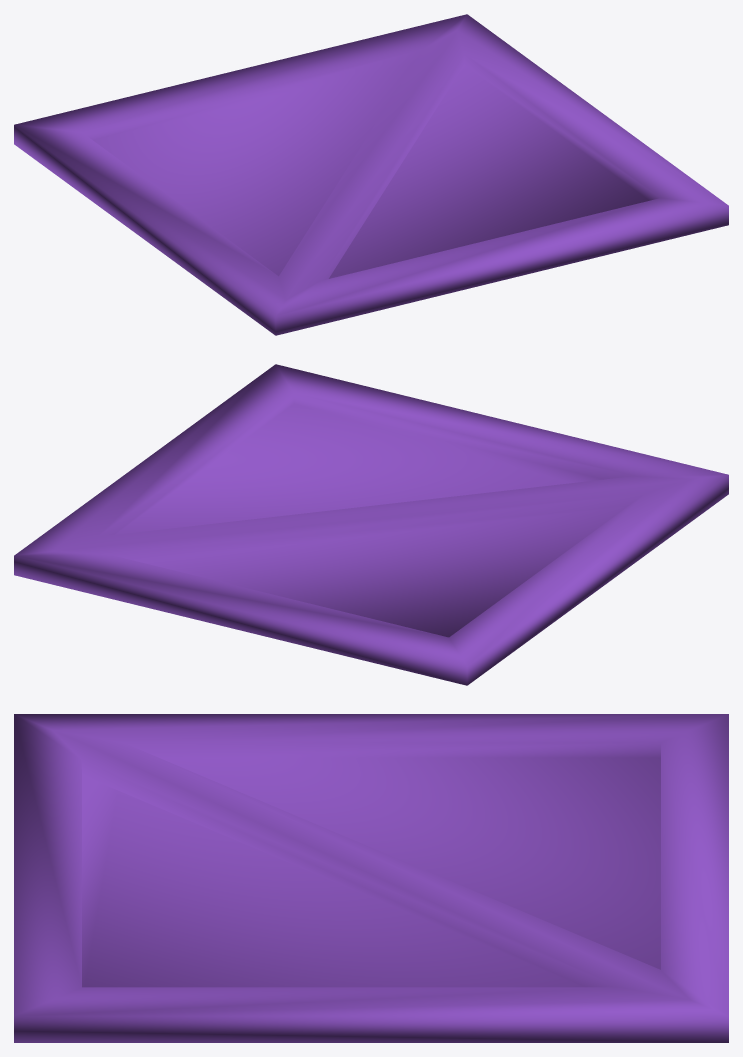
Rendered from OpenCrateLid.fbx.
3 views of the same model, one above another, from view 1: azimuth 30°, elevation 25°; view 2: azimuth 150°, elevation 25°; view 3: azimuth 270°, elevation 25° (orthographic). The views are drawn at different scales.
Parts seen in each view (by area): view 1: OpenCrateLid:Box002; view 2: OpenCrateLid:Box002; view 3: OpenCrateLid:Box002.
Part boxes in pixels (bbox=[...]): OpenCrateLid:Box002: bbox=[14, 14, 728, 335]; OpenCrateLid:Box002: bbox=[14, 364, 728, 685]; OpenCrateLid:Box002: bbox=[14, 714, 728, 1042].
Size of the model in its own units: 10.49 by 0.4309 by 10.49.
